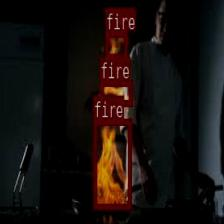fire: (93, 118, 131, 209), (100, 79, 132, 105), (104, 29, 127, 58)
